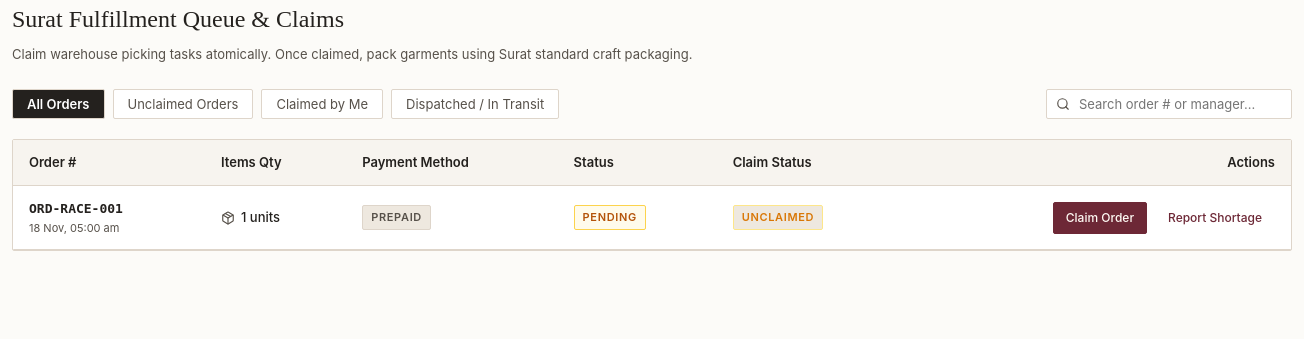
Scenario: Component 15 — End-to-End Quality, Performance, Security & Role Verification › 5. Concurrency & Idempotency Safeguards › 5.1 Concurrent order claim conflict returns conflict alert without corrupting manager queue
Expected: the text "ORD-RACE-001" is shown, [29, 201, 123, 216]
What coordinates should you click on to do the following:
click the button "Claim Order"
I would click on:
 (1100, 218)
Its box is [1053, 202, 1147, 234].
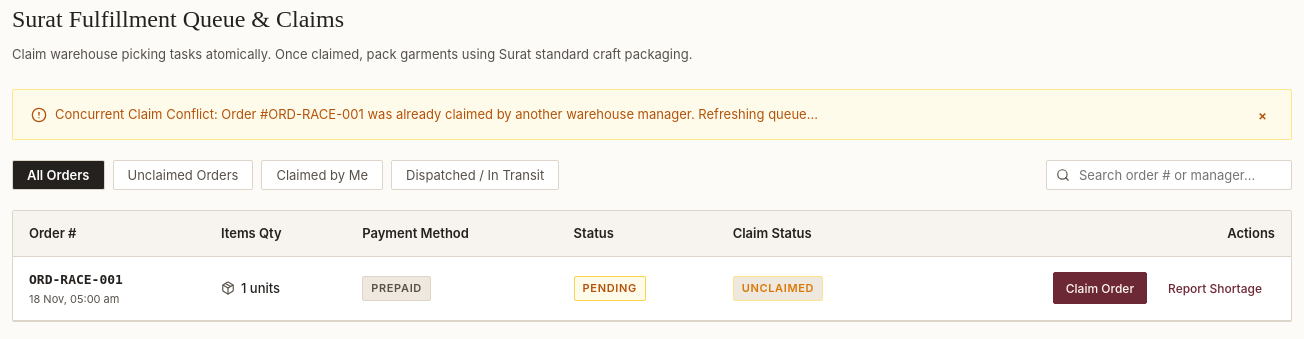
Expected: the text "Concurrent Claim Conflict" is shown, [55, 106, 818, 122]
